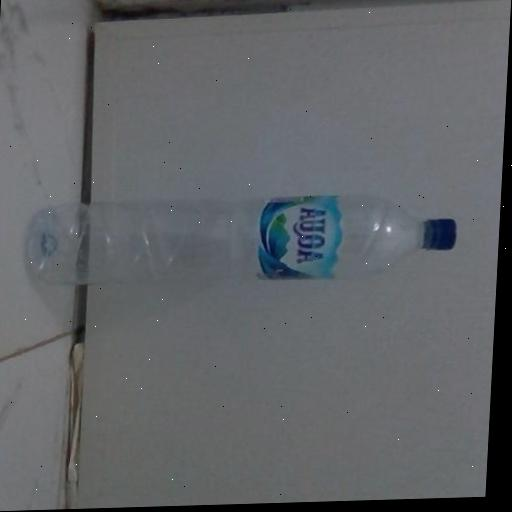ba: (6, 168, 473, 314)
